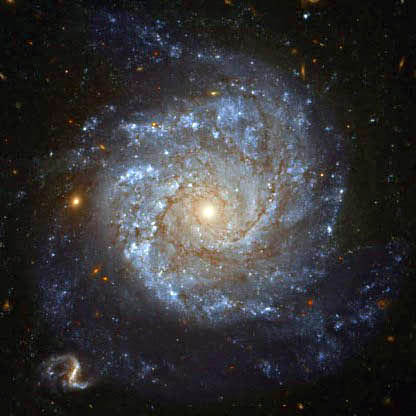NGC 1309: (28, 26, 390, 403)
